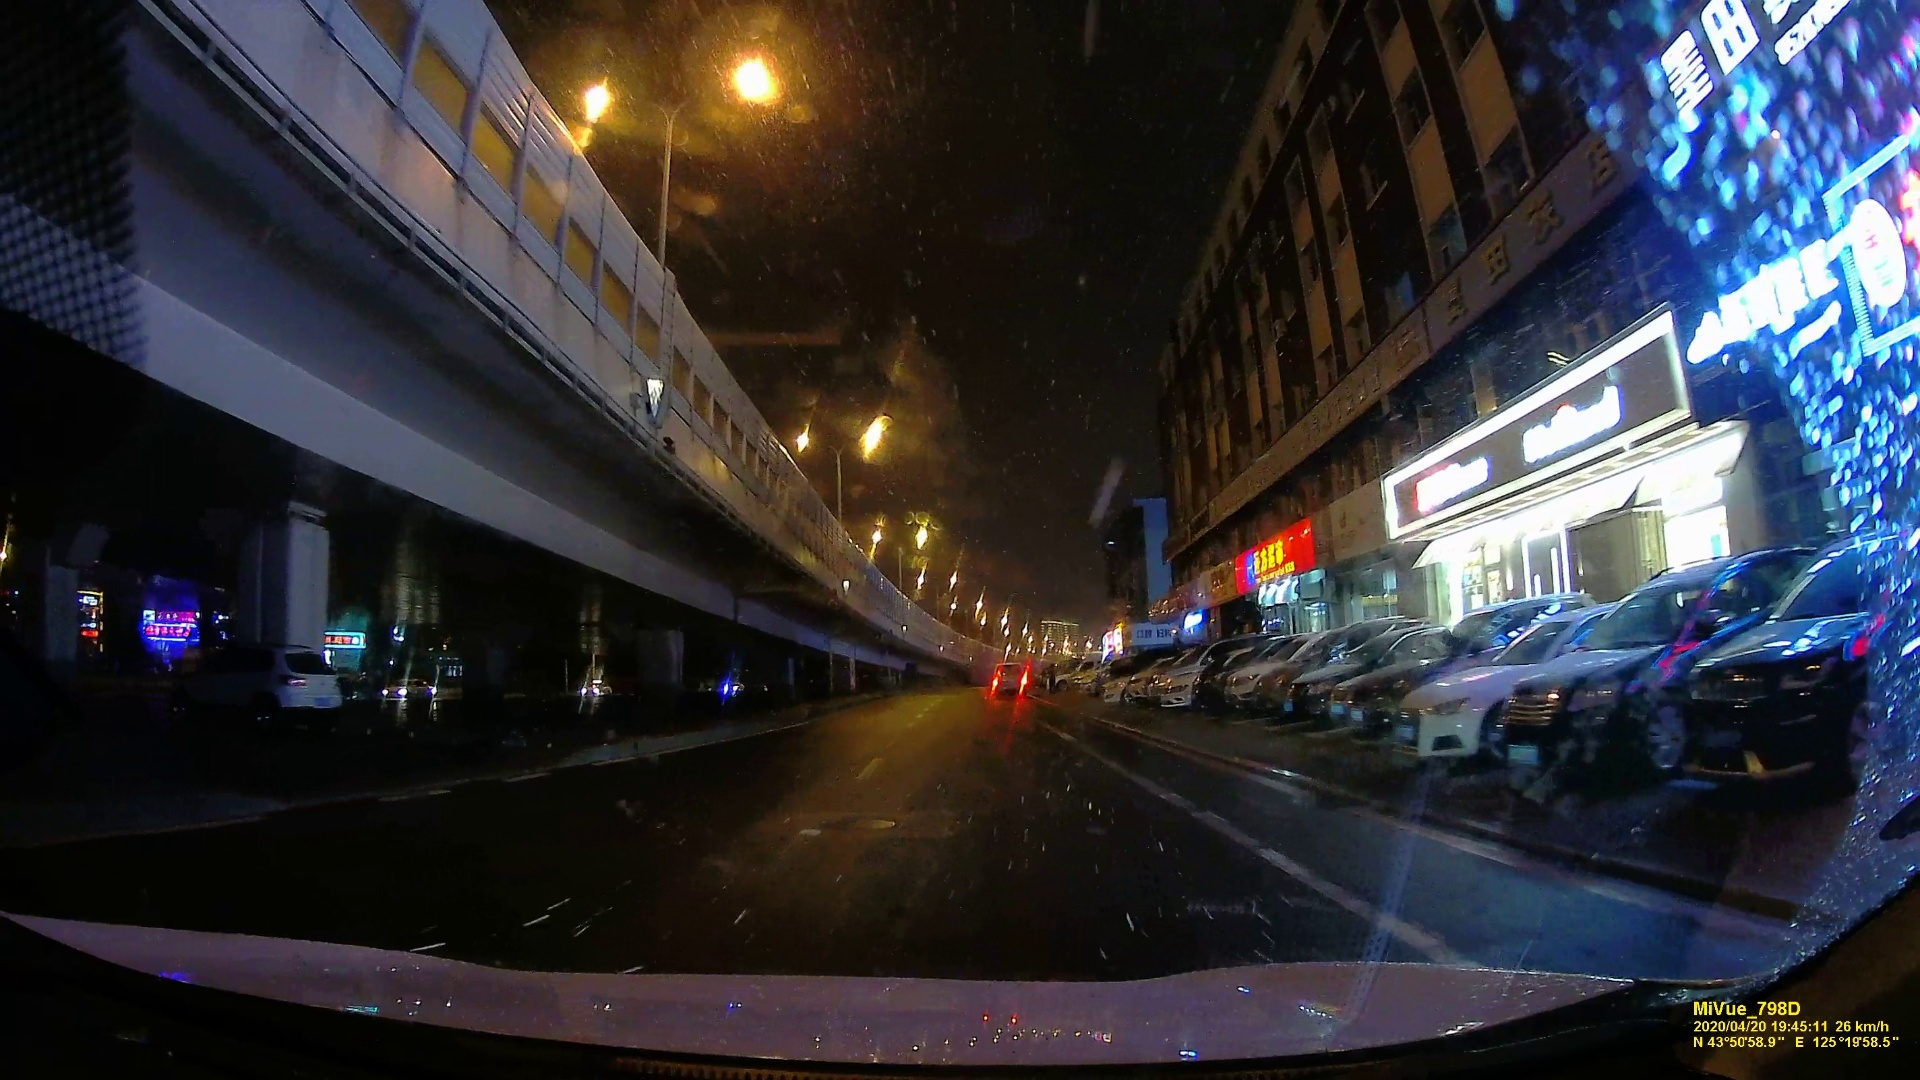vehicle: (1695, 522, 1916, 796), (229, 644, 343, 719), (381, 676, 439, 704), (990, 662, 1027, 695), (578, 680, 607, 699)
